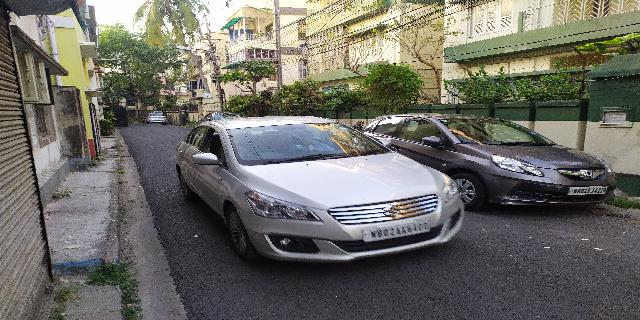Car: (165, 114, 465, 263), (366, 106, 624, 217)
